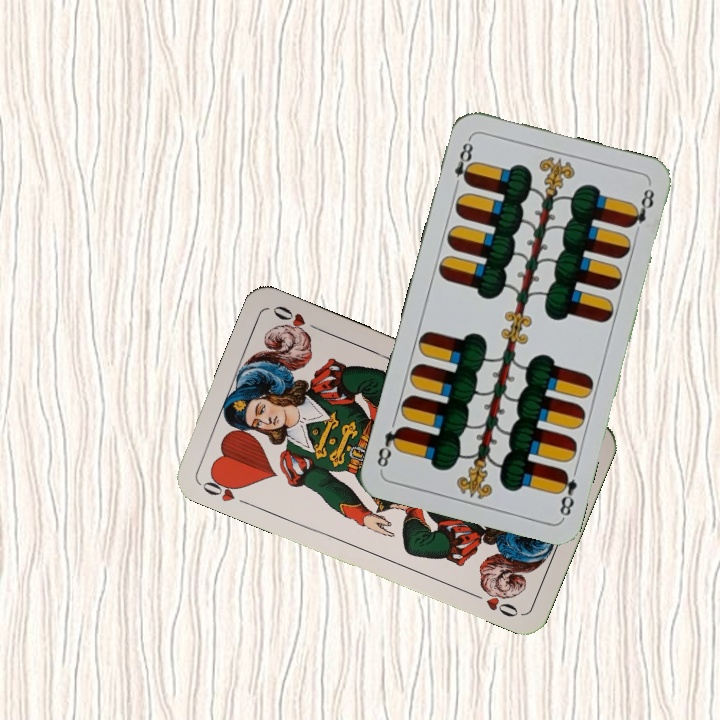E8: (450, 134, 477, 192), (553, 465, 580, 520)
HO: (196, 470, 246, 505)
